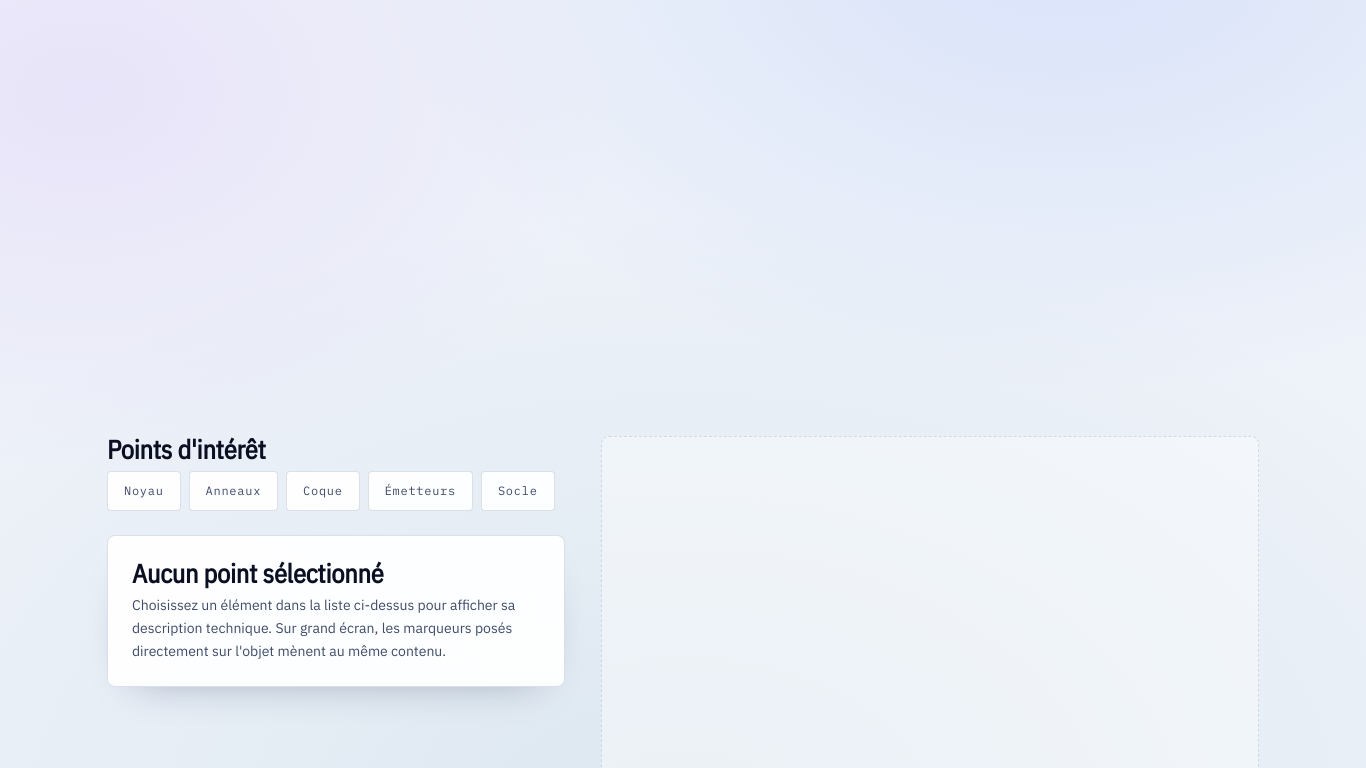
it: InteractiveSection › affiche la fiche descriptive du point sélectionné
Expected: the heading "Aucun point sélectionné" is shown, [132,556,383,590]
Step 1. Click the button with test id "hotspot-rings" → (233, 491), box [189,471,278,511]
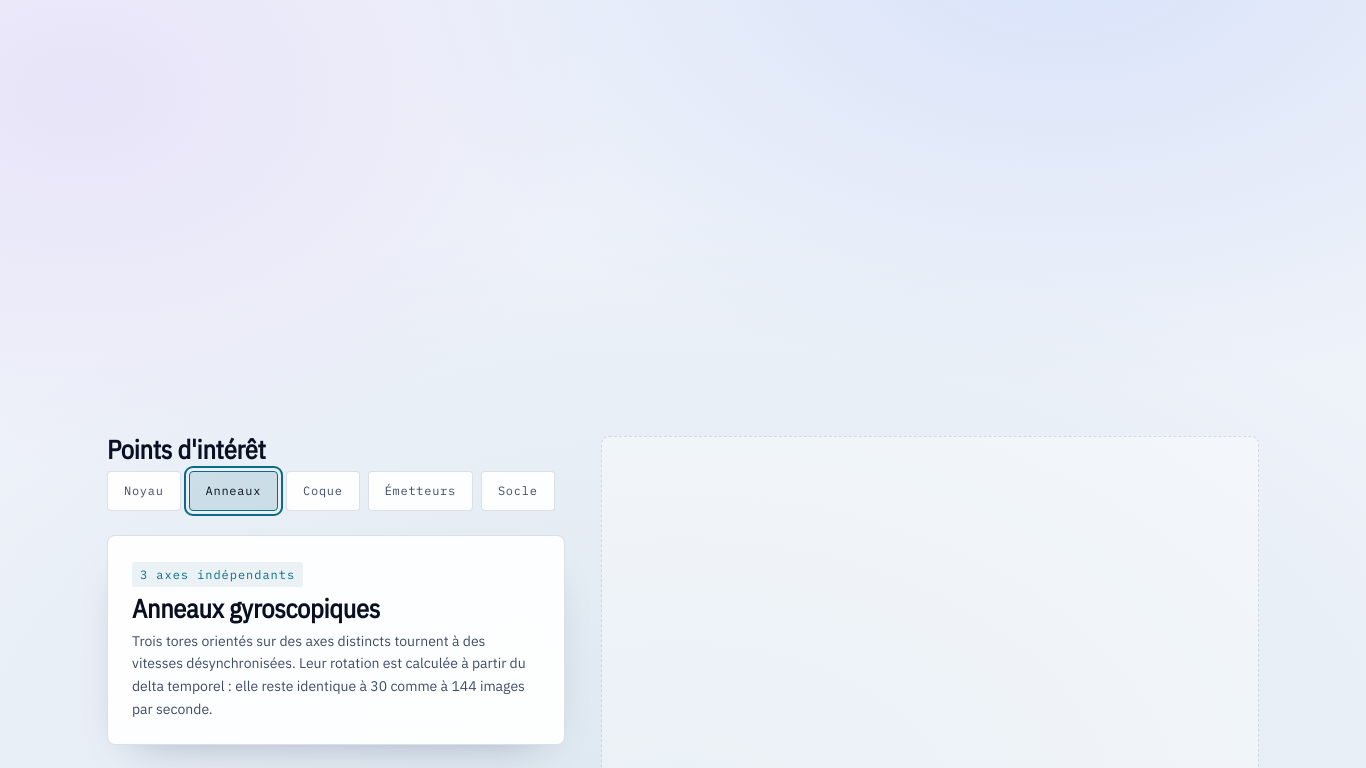
Result: the element with test id "hotspot-card" shows "Anneaux gyroscopiques" at [132,591,380,625]
Result: the element with test id "hotspot-card" shows "3 axes indépendants" at [140,567,295,582]
